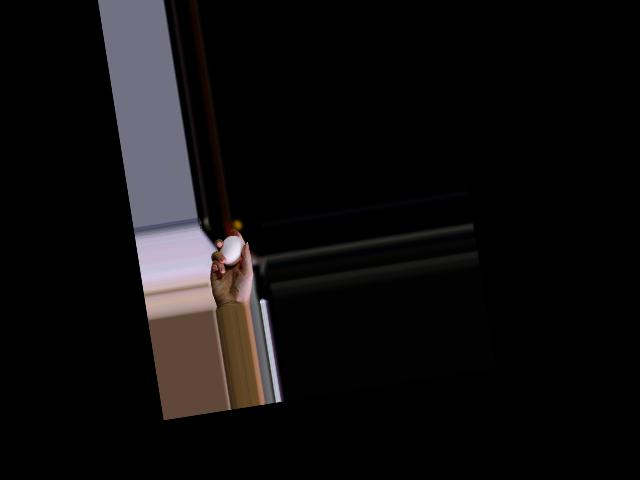egg: (217, 233, 246, 266)
